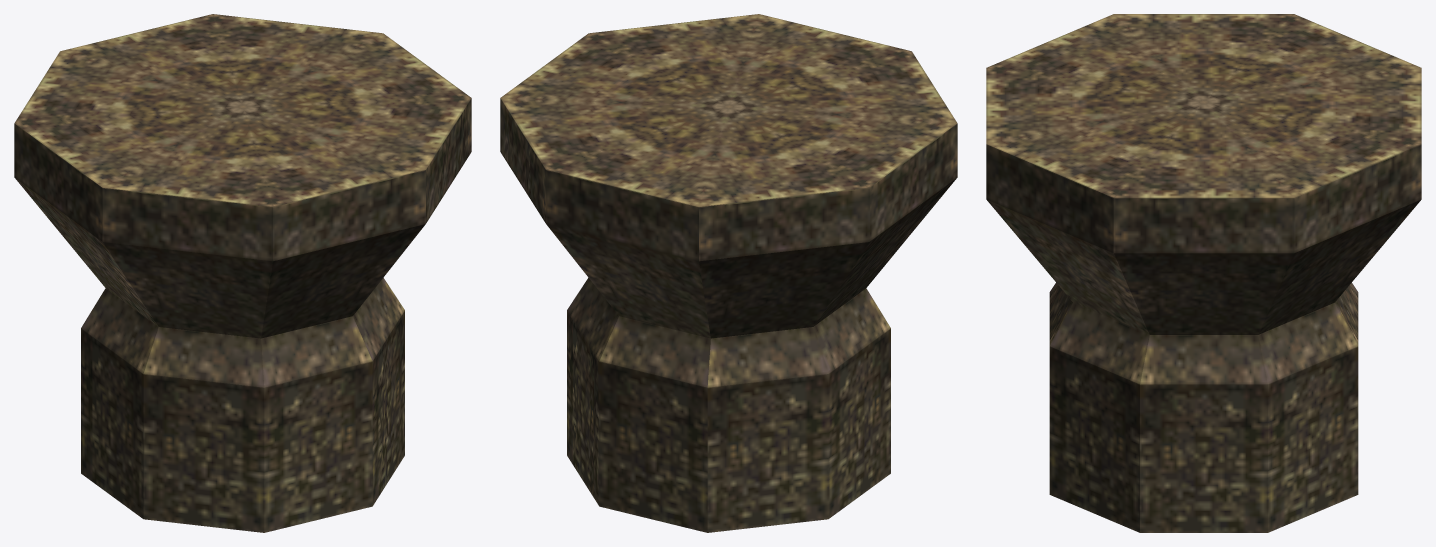
File: general_obj_bigtower11_01.fbx
3 renders of one model, left to right at view 1: azimuth 30°, elevation 25°; view 2: azimuth 150°, elevation 25°; view 3: azimuth 270°, elevation 25°, orthographic. The views are drawn at different scales.
Visible parts, largest first — view 1: Sphere01; view 2: Sphere01; view 3: Sphere01.
Part boxes in pixels (x1,y1,x2,y2): Sphere01: (14,14,471,532); Sphere01: (500,14,957,532); Sphere01: (986,14,1421,532).
Bounding box in the file's own units: 4.31 × 4 × 4.31.
